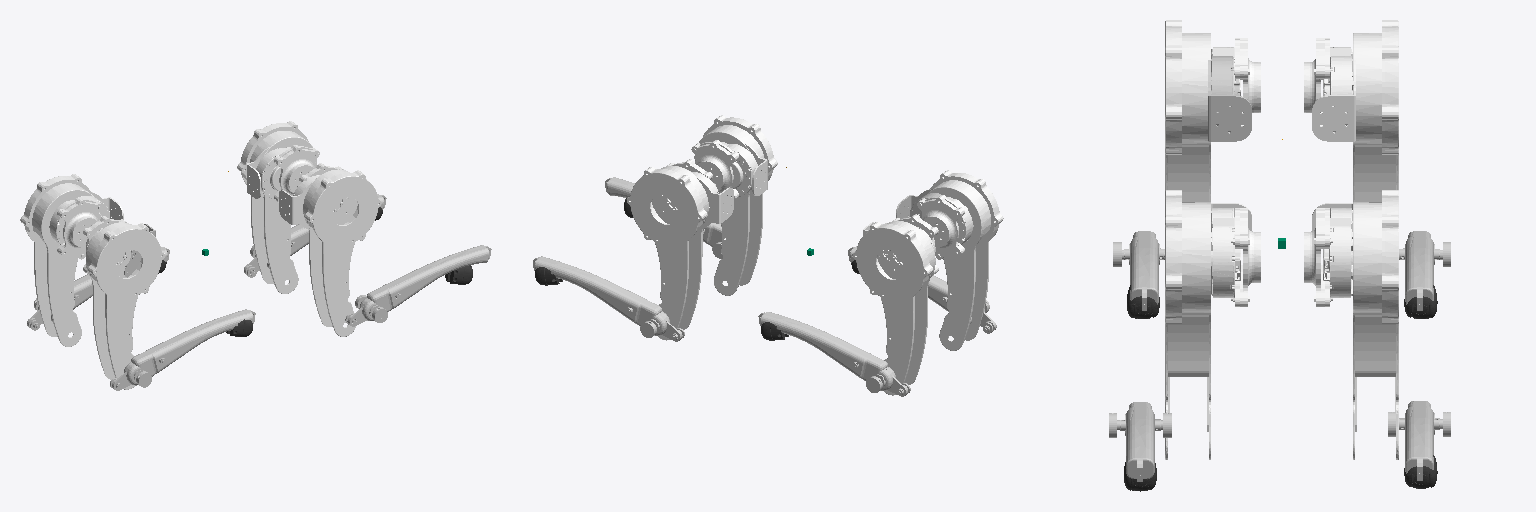
robot.urdf — mybot_v2:
<?xml version="1.0" encoding="utf-8"?>
<robot name="mybot_v2">
  <material name="black">
    <color rgba="0.29804 0.29804 0.29804 1" />
  </material>
  <material name="silver">
    <color rgba="0.84706 0.84706 0.84706 1" />
  </material>
  <material name="white">
    <color rgba="1 1 1 1" />
  </material>

  <link name="base">
    <visual>
      <origin rpy="0 0 0" xyz="0 0 0"/>
      <geometry>
        <box size="0.001 0.001 0.001"/>
      </geometry>
    </visual>
  </link>
  <joint name="floating_base" type="fixed">
    <origin rpy="0 0 0" xyz="0 0 0"/>
    <parent link="base"/>
    <child link="body"/>
  </joint>

  <link name="body">
    <inertial>
      <origin xyz="-0.06040900 -0.00003518 -0.07387929" rpy="0 0 0" />
      <mass value="3.87237343" />
      <inertia ixx="0.02571059" ixy="0.00000006" ixz="0.00004843" iyy="0.06723706" iyz="0.00000039" izz="0.07678240" />
    </inertial>
    <visual>
      <origin xyz="0 0 0" rpy="0 0 0" />
      <geometry>
        <mesh filename="../meshes/body.STL" />
      </geometry>
      <material name="silver" />
    </visual>
    <collision>
      <origin xyz="-0.05 0 -0.09" rpy="0 0 0" />
      <geometry>
        <box size="0.30 0.2 0.16" />
      </geometry>
    </collision>
  </link>

<joint name="imu_joint" type="fixed">
    <parent link="body"/>
    <child link="imu_link"/>
    <origin rpy="0 0 0" xyz="-0.05 0 -0.16"/> 
  </joint>
  
  <link name="imu_link">
    <inertial>
      <mass value="0.001"/>
      <origin rpy="0 0 0" xyz="0 0 0"/>
      <inertia ixx="0.0001" ixy="0" ixz="0" iyy="0.0001" iyz="0" izz="0.0001"/>
    </inertial>
    <visual>
      <origin rpy="0 0 0" xyz="0 0 0"/>
      <geometry>
        <box size="0.01 0.01 0.01"/>
      </geometry>
      <material name="red"/>
    </visual>
    </link>

  <link name="FL_hip">
    <inertial>
      <origin xyz="0.06912954 0.00308032 -0.00003864" rpy="0 0 0" />
      <mass value="0.88715151" />
      <inertia ixx="0.00069961" ixy="-0.00005524" ixz="0.00000161" iyy="0.00185100" iyz="-0.00000029" izz="0.00156540" />
    </inertial>
    <visual>
      <origin xyz="0 0 0" rpy="0 0 0" />
      <geometry>
        <mesh filename="../meshes/FL_hip.STL" />
      </geometry>
      <material name="white" />
    </visual>
    <collision>
      <origin xyz="0 0 0" rpy="1.5707963 0 0" />
      <geometry>
        <cylinder length="0.06" radius="0.04" />
      </geometry>
    </collision>
  </link>
  
  <joint name="FL_hip_joint" type="revolute">
    <origin xyz="0.0906 0.062 -0.071" rpy="0 0 0" />
    <parent link="body" />
    <child link="FL_hip" />
    <axis xyz="1 0 0" />
    <dynamics damping="0.0" friction="0.1"/>
    <limit effort="33.5" lower="-0.8" upper="0.8" velocity="28"/>
  </joint>

  <link name="FL_thigh">
    <inertial>
      <origin xyz="-0.00176951 0.05306396 -0.03995815" rpy="0 0 0" />
      <mass value="1.57937423" />
      <inertia ixx="0.00867755" ixy="6.478E-05" ixz="-0.00018618" iyy="0.00831722" iyz="0.00140967" izz="0.00215563" />
    </inertial>
    <visual>
      <origin xyz="0 0 0" rpy="0 0 0" />
      <geometry>
        <mesh filename="../meshes/FL_thigh.STL" />
      </geometry>
      <material name="white" />
    </visual>
    <collision>
      <origin xyz="0 0.08 -0.1" rpy="0 0 0" />
      <geometry>
        <box size="0.04 0.04 0.2" />
      </geometry>
    </collision>
  </link>

  <joint name="FL_thigh_joint" type="revolute">
    <origin xyz="0.089 0.02895 0" rpy="0 0 0" />
    <parent link="FL_hip" />
    <child link="FL_thigh" />
    <axis xyz="0 1 0" />
    <dynamics damping="0.0" friction="0.1"/>
    <limit effort="33.5" lower="-1.04" upper="4.18" velocity="28"/>
  </joint>

  <link name="FL_calf">
    <inertial>
      <origin xyz="0.0023755 -2.9153E-05 -0.085563" rpy="0 0 0" />
      <mass value="0.34494" />
      <inertia ixx="0.00211121" ixy="3E-07" ixz="0.00039966" iyy="0.00219234" iyz="-1.92E-06" izz="0.00015881" />
    </inertial>
    <visual>
      <origin xyz="0 0 0" rpy="0 0 0" />
      <geometry>
        <mesh filename="../meshes/FL_calf.STL" />
      </geometry>
      <material name="silver" />
    </visual>
    <collision>
      <origin xyz="0 0 -0.1" rpy="0 0 0" />
      <geometry>
        <box size="0.02 0.02 0.2" />
      </geometry>
    </collision>
  </link>

  <joint name="FL_calf_joint" type="revolute">
    <origin xyz="0 0.0753 -0.22" rpy="0 0 0" />
    <parent link="FL_thigh" />
    <child link="FL_calf" />
    <axis xyz="0 1 0" />
    <dynamics damping="0.0" friction="0.3"/>
    <limit effort="33.5" lower="-2.69" upper="-0.91" velocity="28.0"/>
  </joint>

  <link name="FL_foot">
    <inertial>
      <origin xyz="0 0 0" rpy="0 0 0" />
      <mass value="0.03351" />
      <inertia ixx="5.3617E-06" ixy="0" ixz="0" iyy="5.3617E-06" iyz="0" izz="5.3617E-06" />
    </inertial>
    <visual>
      <origin xyz="0 0 0" rpy="0 0 0" />
      <geometry>
        <mesh filename="../meshes/FL_foot.STL" />
      </geometry>
      <material name="black" />
    </visual>
    <collision>
      <origin xyz="0 0 0" rpy="0 0 0" />
      <geometry>
        <sphere radius="0.02" />
      </geometry>
    </collision>
  </link>

  <joint name="FL_foot_joint" type="fixed">
    <origin xyz="0 -0.00025 -0.22336" rpy="0 0 0" />
    <parent link="FL_calf" />
    <child link="FL_foot" />
    <axis xyz="0 0 0" />
  </joint>

  <link name="FR_hip">
    <inertial>
      <origin xyz="0.06924677 -0.00308032 -0.00003847" rpy="0 0 0" />
      <mass value="0.88715151" />
      <inertia ixx="0.00069961" ixy="0.00005408" ixz="-0.00000026" iyy="0.00185513" iyz="0.00000029" izz="0.00156952" />
    </inertial>
    <visual>
      <origin xyz="0 0 0" rpy="0 0 0" />
      <geometry>
        <mesh filename="../meshes/FR_hip.STL" />
      </geometry>
      <material name="white" />
    </visual>
    <collision>
      <origin xyz="0 0 0" rpy="1.5707963 0 0" />
      <geometry>
        <cylinder length="0.06" radius="0.04" />
      </geometry>
    </collision>
  </link>

  <joint name="FR_hip_joint" type="revolute">
    <origin xyz="0.0906 -0.062 -0.071" rpy="0 0 0" />
    <parent link="body" />
    <child link="FR_hip" />
    <axis xyz="1 0 0" />
    <dynamics damping="0.0" friction="0.1"/>
    <limit effort="33.5" lower="-0.8" upper="0.8" velocity="28"/>
  </joint>

  <link name="FR_thigh">
    <inertial>
      <origin xyz="-0.00184722 -0.05308638 -0.03995616" rpy="0 0 0" />
      <mass value="1.58133941" />
      <inertia ixx="0.00867822" ixy="-6.202E-05" ixz="-0.00018385" iyy="0.00831708" iyz="-0.00140961" izz="0.00215611" />
    </inertial>
    <visual>
      <origin xyz="0 0 0" rpy="0 0 0" />
      <geometry>
        <mesh filename="../meshes/FR_thigh.STL" />
      </geometry>
      <material name="white" />
    </visual>
    <collision>
      <origin xyz="0 -0.08 -0.1" rpy="0 0 0" />
      <geometry>
        <box size="0.04 0.04 0.2" />
      </geometry>
    </collision>
  </link>

  <joint name="FR_thigh_joint" type="revolute">
    <origin xyz="0.089 -0.02895 0" rpy="0 0 0" />
    <parent link="FR_hip" />
    <child link="FR_thigh" />
    <axis xyz="0 1 0" />
    <dynamics damping="0.0" friction="0.1"/>
    <limit effort="33.5" lower="-1.04" upper="4.18" velocity="28"/>
  </joint>

  <link name="FR_calf">
    <inertial>
      <origin xyz="0.0023755 2.6551E-05 -0.085563" rpy="0 0 0" />
      <mass value="0.34494" />
      <inertia ixx="0.00211121" ixy="-2.8E-07" ixz="0.00039966" iyy="0.00219234" iyz="1.82E-06" izz="0.00015881" />
    </inertial>
    <visual>
      <origin xyz="0 0 0" rpy="0 0 0" />
      <geometry>
        <mesh filename="../meshes/FR_calf.STL" />
      </geometry>
      <material name="silver" />
    </visual>
    <collision>
      <origin xyz="0 0 -0.1" rpy="0 0 0" />
      <geometry>
        <box size="0.02 0.02 0.2" />
      </geometry>
    </collision>
  </link>

  <joint name="FR_calf_joint" type="revolute">
    <origin xyz="0 -0.0753 -0.22" rpy="0 0 0" />
    <parent link="FR_thigh" />
    <child link="FR_calf" />
    <axis xyz="0 1 0" />
    <dynamics damping="0.0" friction="0.3"/>
    <limit effort="33.5" lower="-2.69" upper="-0.91" velocity="28.0"/>
  </joint>

  <link name="FR_foot">
    <inertial>
      <origin xyz="0 0 0" rpy="0 0 0" />
      <mass value="0.03351" />
      <inertia ixx="5.3617E-06" ixy="0" ixz="0" iyy="5.3617E-06" iyz="0" izz="5.3617E-06" />
    </inertial>
    <visual>
      <origin xyz="0 0 0" rpy="0 0 0" />
      <geometry>
        <mesh filename="../meshes/FR_foot.STL" />
      </geometry>
      <material name="black" />
    </visual>
    <collision>
      <origin xyz="0 0 0" rpy="0 0 0" />
      <geometry>
        <sphere radius="0.02" />
      </geometry>
    </collision>
  </link>

  <joint name="FR_foot_joint" type="fixed">
    <origin xyz="0 0.00025 -0.22336" rpy="0 0 0" />
    <parent link="FR_calf" />
    <child link="FR_foot" />
    <axis xyz="0 0 0" />
  </joint>

  <link name="RL_hip">
    <inertial>
      <origin xyz="-0.06912960 0.00308032 0.00003847" rpy="0 0 0" />
      <mass value="0.88715151" />
      <inertia ixx="0.00069961" ixy="0.00005524" ixz="0.00000161" iyy="0.00185101" iyz="0.00000029" izz="0.00156541" />
    </inertial>
    <visual>
      <origin xyz="0 0 0" rpy="0 0 0" />
      <geometry>
        <mesh filename="../meshes/RL_hip.STL" />
      </geometry>
      <material name="white" />
    </visual>
    <collision>
      <origin xyz="0 0 0" rpy="1.5707963 0 0" />
      <geometry>
        <cylinder length="0.06" radius="0.04" />
      </geometry>
    </collision>
  </link>

  <joint name="RL_hip_joint" type="revolute">
    <origin xyz="-0.2106 0.062 -0.071" rpy="0 0 0" />
    <parent link="body" />
    <child link="RL_hip" />
    <axis xyz="1 0 0" />
    <dynamics damping="0.0" friction="0.1"/>
    <limit effort="33.5" lower="-0.8" upper="0.8" velocity="28"/>
  </joint>

  <link name="RL_thigh">
    <inertial>
      <origin xyz="-0.00271376 0.05342776 -0.03973152" rpy="0 0 0" />
      <mass value="1.593154" />
      <inertia ixx="0.00874288" ixy="9.667E-05" ixz="-0.00020428" iyy="0.00841103" iyz="0.00139054" izz="0.00223462" />
    </inertial>
    <visual>
      <origin xyz="0 0 0" rpy="0 0 0" />
      <geometry>
        <mesh filename="../meshes/RL_thigh.STL" />
      </geometry>
      <material name="white" />
    </visual>
    <collision>
      <origin xyz="0 0.08 -0.1" rpy="0 0 0" />
      <geometry>
        <box size="0.04 0.04 0.2" />
      </geometry>
    </collision>
  </link>

  <joint name="RL_thigh_joint" type="revolute">
    <origin xyz="-0.089 0.02895 0" rpy="0 0 0" />
    <parent link="RL_hip" />
    <child link="RL_thigh" />
    <axis xyz="0 1 0" />
    <dynamics damping="0.0" friction="0.1"/>
    <limit effort="33.5" lower="-1.04" upper="4.18" velocity="28"/>
  </joint>

  <link name="RL_calf">
    <inertial>
      <origin xyz="0.0023755 -4.7806E-05 -0.085563" rpy="0 0 0" />
      <mass value="0.34494" />
      <inertia ixx="0.00211121" ixy="2.2E-07" ixz="0.00039966" iyy="0.00219234" iyz="-1.23E-06" izz="0.00015881" />
    </inertial>
    <visual>
      <origin xyz="0 0 0" rpy="0 0 0" />
      <geometry>
        <mesh filename="../meshes/RL_calf.STL" />
      </geometry>
      <material name="silver" />
    </visual>
    <collision>
      <origin xyz="0 0 -0.1" rpy="0 0 0" />
      <geometry>
        <box size="0.02 0.02 0.2" />
      </geometry>
    </collision>
  </link>

  <joint name="RL_calf_joint" type="revolute">
    <origin xyz="0 0.0753 -0.22" rpy="0 0 0" />
    <parent link="RL_thigh" />
    <child link="RL_calf" />
    <axis xyz="0 1 0" />
    <dynamics damping="0.0" friction="0.3"/>
    <limit effort="33.5" lower="-2.69" upper="-0.91" velocity="28.0"/>
  </joint>

  <link name="RL_foot">
    <inertial>
      <origin xyz="0 0 0" rpy="0 0 0" />
      <mass value="0.03351" />
      <inertia ixx="5.3617E-06" ixy="0" ixz="0" iyy="5.3617E-06" iyz="0" izz="5.3617E-06" />
    </inertial>
    <visual>
      <origin xyz="0 0 0" rpy="0 0 0" />
      <geometry>
        <mesh filename="../meshes/RL_foot.STL" />
      </geometry>
      <material name="black" />
    </visual>
    <collision>
      <origin xyz="0 0 0" rpy="0 0 0" />
      <geometry>
        <sphere radius="0.02" />
      </geometry>
    </collision>
  </link>

  <joint name="RL_foot_joint" type="fixed">
    <origin xyz="0 -0.00025 -0.22336" rpy="0 0 0" />
    <parent link="RL_calf" />
    <child link="RL_foot" />
    <axis xyz="0 0 0" />
  </joint>

  <link name="RR_hip">
    <inertial>
      <origin xyz="-0.06924676 -0.00308032 0.00003847" rpy="0 0 0" />
      <mass value="0.88715151" />
      <inertia ixx="0.00069961" ixy="-0.00005408" ixz="-0.00000026" iyy="0.00185513" iyz="-0.00000029" izz="0.00156952" />
    </inertial>
    <visual>
      <origin xyz="0 0 0" rpy="0 0 0" />
      <geometry>
        <mesh filename="../meshes/RR_hip.STL" />
      </geometry>
      <material name="silver" />
    </visual>
    <collision>
      <origin xyz="0 0 0" rpy="1.5707963 0 0" />
      <geometry>
        <cylinder length="0.06" radius="0.04" />
      </geometry>
    </collision>
  </link>

  <joint name="RR_hip_joint" type="revolute">
    <origin xyz="-0.2106 -0.062 -0.071" rpy="0 0 0" />
    <parent link="body" />
    <child link="RR_hip" />
    <axis xyz="1 0 0" />
    <dynamics damping="0.0" friction="0.1"/>
    <limit effort="33.5" lower="-0.8" upper="0.8" velocity="28"/>
  </joint>

  <link name="RR_thigh">
    <inertial>
      <origin xyz="-0.00297935 -0.05327553 -0.03814011" rpy="0 0 0" />
      <mass value="1.58306405" />
      <inertia ixx="0.00816821" ixy="-0.00010062" ixz="-0.00025438" iyy="0.00785378" iyz="-0.00133132" izz="0.00221841" />
    </inertial>
    <visual>
      <origin xyz="0 0 0" rpy="0 0 0" />
      <geometry>
        <mesh filename="../meshes/RR_thigh.STL" />
      </geometry>
      <material name="white" />
    </visual>
    <collision>
      <origin xyz="0 -0.08 -0.1" rpy="0 0 0" />
      <geometry>
        <box size="0.04 0.04 0.2" />
      </geometry>
    </collision>
  </link>

  <joint name="RR_thigh_joint" type="revolute">
    <origin xyz="-0.088999695625364 -0.0289499999999917 0" rpy="0 0 0" />
    <parent link="RR_hip" />
    <child link="RR_thigh" />
    <axis xyz="0 1 0" />
    <dynamics damping="0.0" friction="0.1"/>
    <limit effort="33.5" lower="-1.04" upper="4.18" velocity="28"/>
  </joint>

  <link name="RR_calf">
    <inertial>
      <origin xyz="0.0031074 -3.1371E-05 -0.084827" rpy="0 0 0" />
      <mass value="0.35539" />
      <inertia ixx="0.00207591" ixy="-3E-07" ixz="0.0003696" iyy="0.00214155" iyz="3.47E-06" izz="0.00016557" />
    </inertial>
    <visual>
      <origin xyz="0 0 0" rpy="0 0 0" />
      <geometry>
        <mesh filename="../meshes/RR_calf.STL" />
      </geometry>
      <material name="silver" />
    </visual>
    <collision>
      <origin xyz="0 0 -0.1" rpy="0 0 0" />
      <geometry>
        <box size="0.02 0.02 0.2" />
      </geometry>
    </collision>
  </link>

  <joint name="RR_calf_joint" type="revolute">
    <origin xyz="0 -0.0753 -0.22" rpy="0 0 0" />
    <parent link="RR_thigh" />
    <child link="RR_calf" />
    <axis xyz="0 1 0" />
    <dynamics damping="0.0" friction="0.3"/>
    <limit effort="33.5" lower="-2.69" upper="-0.91" velocity="28.0"/>
  </joint>

  <link name="RR_foot">
    <inertial>
      <origin xyz="0 0 0" rpy="0 0 0" />
      <mass value="0.03351" />
      <inertia ixx="5.3617E-06" ixy="0" ixz="0" iyy="5.3617E-06" iyz="0" izz="5.3617E-06" />
    </inertial>
    <visual>
      <origin xyz="0 0 0" rpy="0 0 0" />
      <geometry>
        <mesh filename="../meshes/RR_foot.STL" />
      </geometry>
      <material name="black" />
    </visual>
    <collision>
      <origin xyz="0 0 0" rpy="0 0 0" />
      <geometry>
        <sphere radius="0.02" />
      </geometry>
    </collision>
  </link>

  <joint name="RR_foot_joint" type="fixed">
    <origin xyz="0 0.00025 -0.22336" rpy="0 0 0" />
    <parent link="RR_calf" />
    <child link="RR_foot" />
    <axis xyz="0 0 0" />
  </joint>
</robot>

--- What the picture shows (computed from the rendered views, not written in the file) ---
Views: 3 orthographic renders of the robot side by side, from view 1: azimuth 30°, elevation 25°; view 2: azimuth 150°, elevation 25°; view 3: azimuth 270°, elevation 25°.
Robot: mybot_v2 — 19 links, 18 joints (12 revolute, 6 fixed); root link base; default pose: all joints at 0 but 4 set to mid-range because 0 is outside their limits (FL_calf_joint = -1.8, FR_calf_joint = -1.8, RL_calf_joint = -1.8, RR_calf_joint = -1.8).
Links seen in each view (by area): view 1: FR_thigh, RL_thigh, RR_thigh, FL_thigh, FR_calf, RR_calf, FL_hip, FR_hip, RL_calf, FL_calf; view 2: RR_thigh, FL_thigh, RL_thigh, FR_thigh, FL_calf, RL_calf, FR_hip, FL_hip, FR_calf, RR_calf, RR_hip; view 3: FR_thigh, FL_thigh, RR_thigh, RL_thigh, RR_hip, RL_hip, FR_calf, FL_calf, RR_calf, RL_calf, RR_foot, FL_foot (+1 smaller).
Link boxes in pixels (x1,y1,x2,y2): FR_thigh: [299, 163, 381, 336]; RL_thigh: [20, 174, 102, 346]; RR_thigh: [83, 216, 164, 389]; FL_thigh: [237, 121, 319, 293]; FR_calf: [345, 245, 491, 326]; RR_calf: [110, 309, 255, 390]; FL_hip: [247, 147, 285, 198]; FR_hip: [279, 175, 319, 230]; RL_calf: [27, 247, 169, 330]; FL_calf: [244, 194, 386, 277]; RR_thigh: [917, 170, 1003, 350]; FL_thigh: [627, 159, 712, 340]; RL_thigh: [852, 214, 938, 395]; FR_thigh: [691, 115, 777, 295]; FL_calf: [533, 256, 684, 341]; RL_calf: [758, 312, 910, 396]; FR_hip: [727, 143, 767, 196]; FL_hip: [692, 172, 733, 229]; FR_calf: [605, 177, 722, 258]; RR_calf: [848, 246, 996, 333]; RR_hip: [896, 189, 940, 218]; FR_thigh: [1165, 190, 1260, 459]; FL_thigh: [1304, 190, 1398, 459]; RR_thigh: [1165, 20, 1260, 202]; RL_thigh: [1304, 20, 1398, 202]; RR_hip: [1208, 56, 1251, 141]; RL_hip: [1312, 56, 1355, 141]; FR_calf: [1109, 402, 1171, 481]; FL_calf: [1388, 401, 1450, 480]; RR_calf: [1113, 231, 1164, 310]; RL_calf: [1399, 231, 1450, 310]; RR_foot: [1127, 285, 1159, 318]; FL_foot: [1404, 455, 1437, 488].
Size in the robot's own frame: 0.8623 by 0.4085 by 0.338 metres.
16 mesh visuals loaded from 17 distinct referenced files (16 binary STL); not drawn: 1 (reference not matched to a file when rendering).
